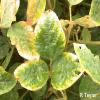Soyabean leaf: (33, 9, 66, 60), (51, 51, 87, 91), (13, 59, 50, 91)
